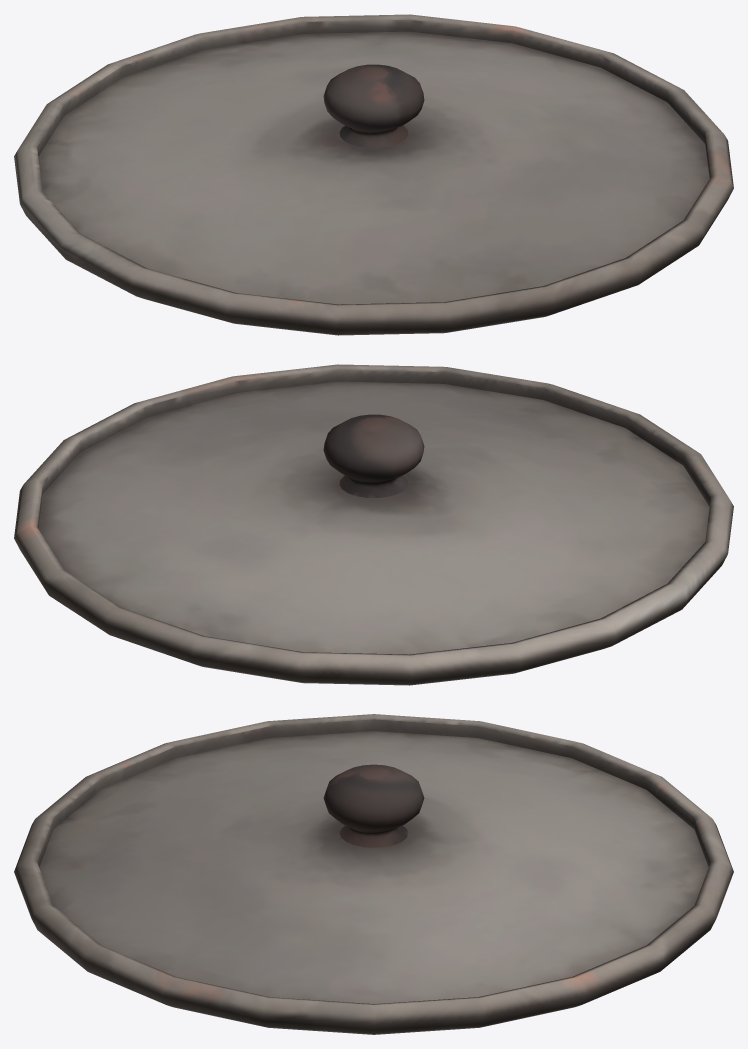
The model's file is SM_SaucePan_Black_Top_01.fbx.
3 renders of one model, top to bottom at view 1: azimuth 30°, elevation 25°; view 2: azimuth 150°, elevation 25°; view 3: azimuth 270°, elevation 25°, orthographic.
Visible parts, largest first — view 1: SM_SaucePan_Black_Top_01_LOD0; view 2: SM_SaucePan_Black_Top_01_LOD0; view 3: SM_SaucePan_Black_Top_01_LOD0.
Boxes of the visible parts, x1,y1,x2,y2 form: SM_SaucePan_Black_Top_01_LOD0: (14, 14, 733, 335); SM_SaucePan_Black_Top_01_LOD0: (14, 364, 733, 685); SM_SaucePan_Black_Top_01_LOD0: (14, 714, 733, 1034).
Size of the model in its own units: 29.5 by 29.5 by 5.31.
Materials: 1 (1 with a texture image).
